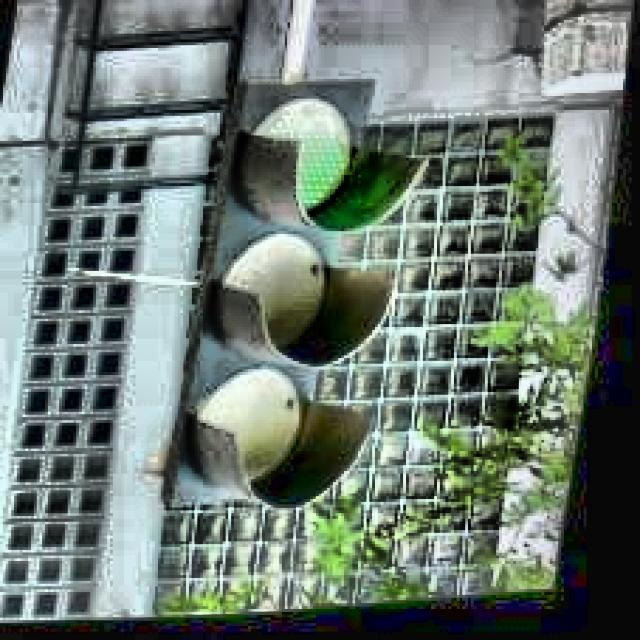green: (165, 72, 444, 526)
